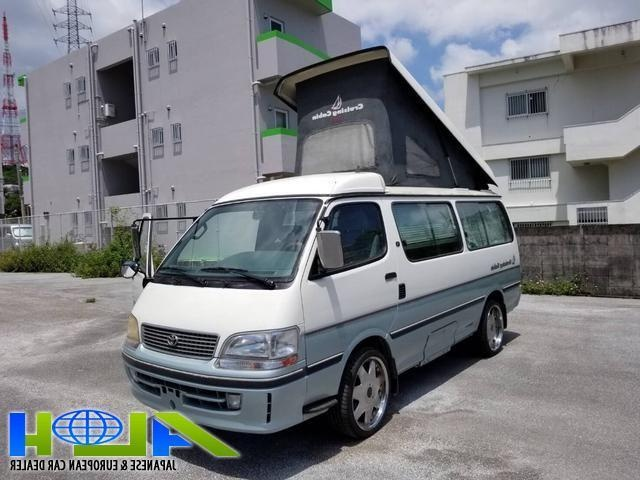van: (122, 176, 522, 436)
